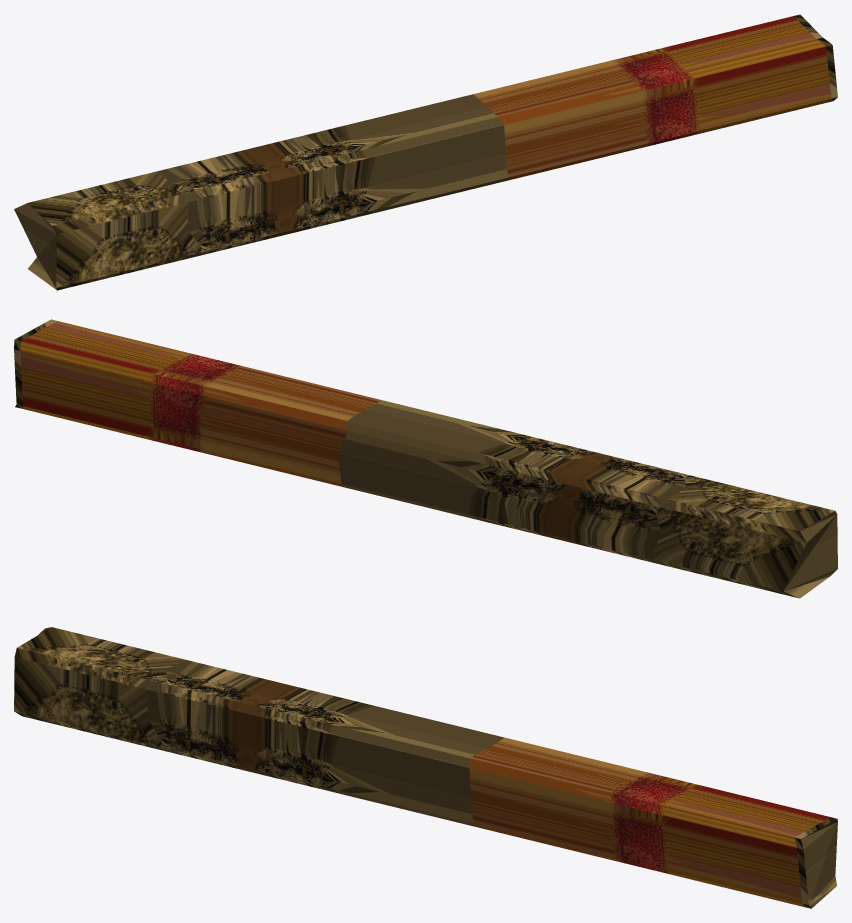
The model's file is BrokenBeam.fbx.
The picture shows the model from 3 angles, top to bottom: view 1: azimuth 30°, elevation 25°; view 2: azimuth 150°, elevation 25°; view 3: azimuth 330°, elevation 25°; orthographic projection.
Visible parts, largest first — view 1: BrokenBeam; view 2: BrokenBeam; view 3: BrokenBeam.
Part boxes in pixels (x1=…): BrokenBeam: x1=14, y1=14, x2=837, y2=290; BrokenBeam: x1=14, y1=319, x2=837, y2=598; BrokenBeam: x1=14, y1=627, x2=837, y2=908.
Bounding box in the file's own units: 4.08 × 0.327 × 0.327.
